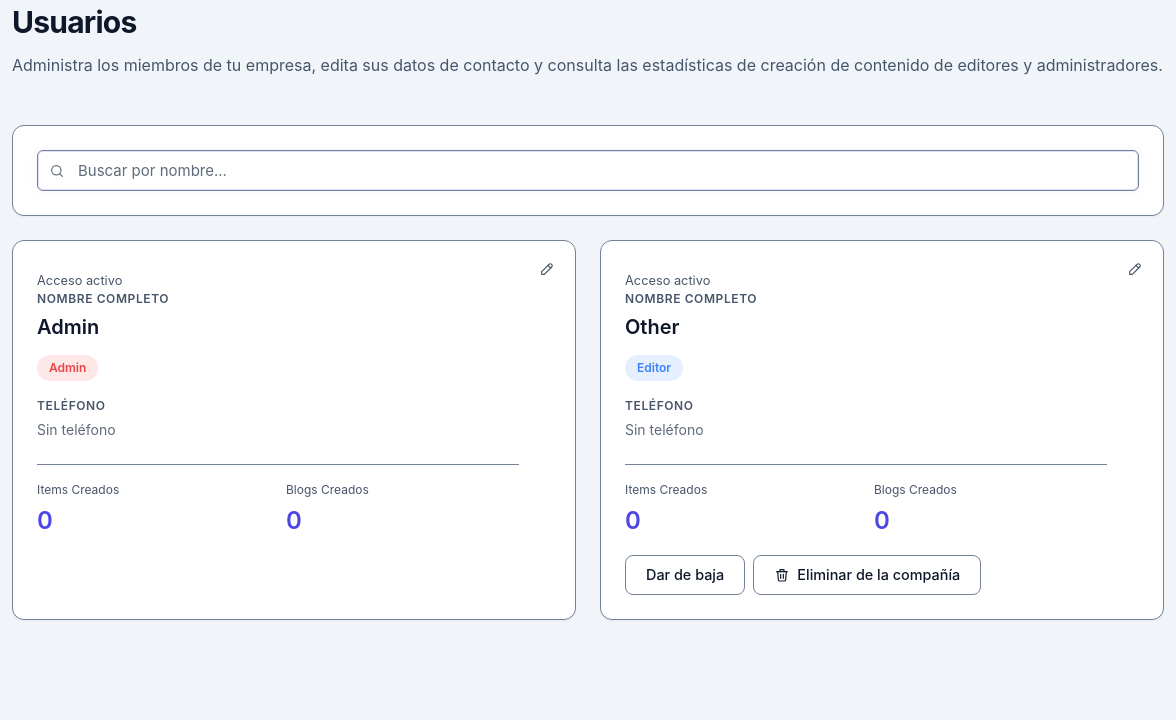
Test: lets a company admin suspend, reactivate and remove only other memberships
The width and height of the screenshot is (1176, 720).
Click the button "Dar de baja" at (685, 575), box [625,555,745,595]
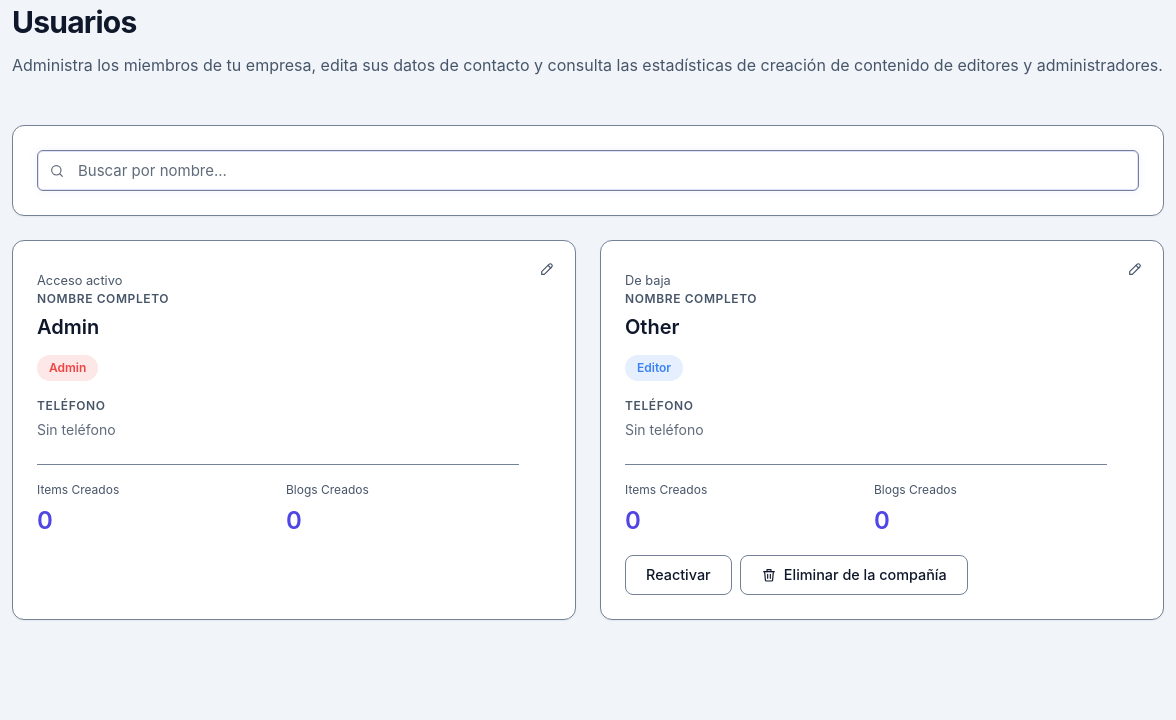
Click the button "Reactivar" at (678, 575), box [625,555,732,595]
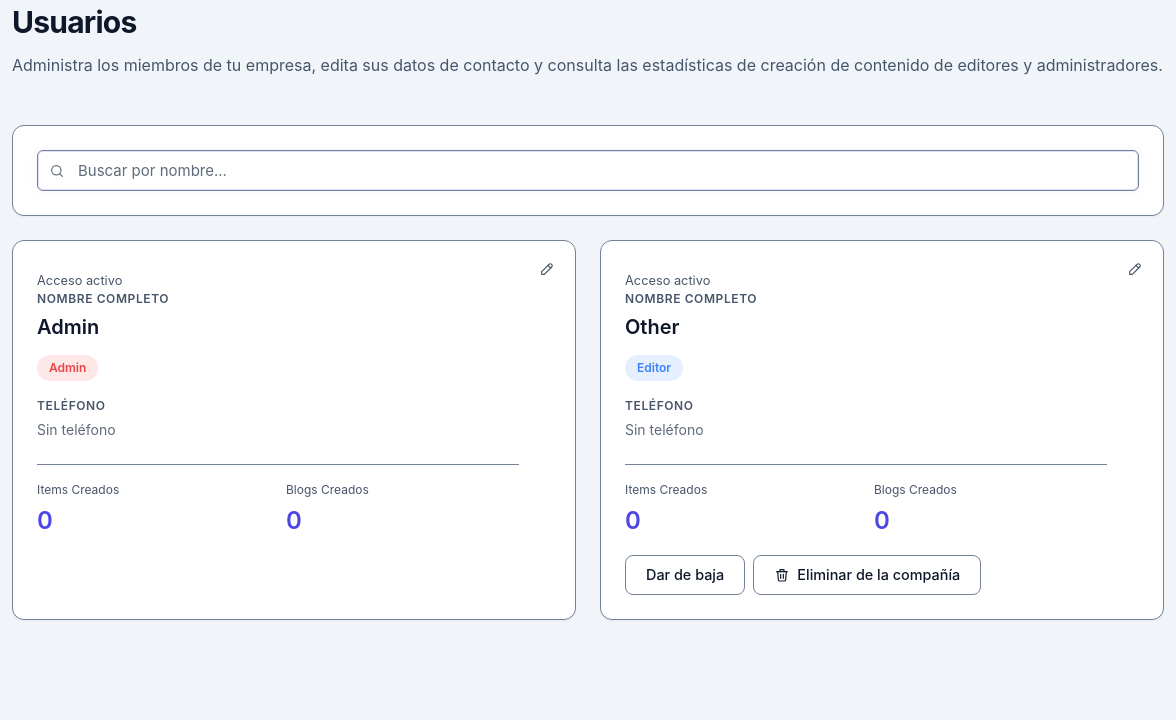
Click the button "Eliminar de la compañía" at (867, 575), box [753,555,981,595]
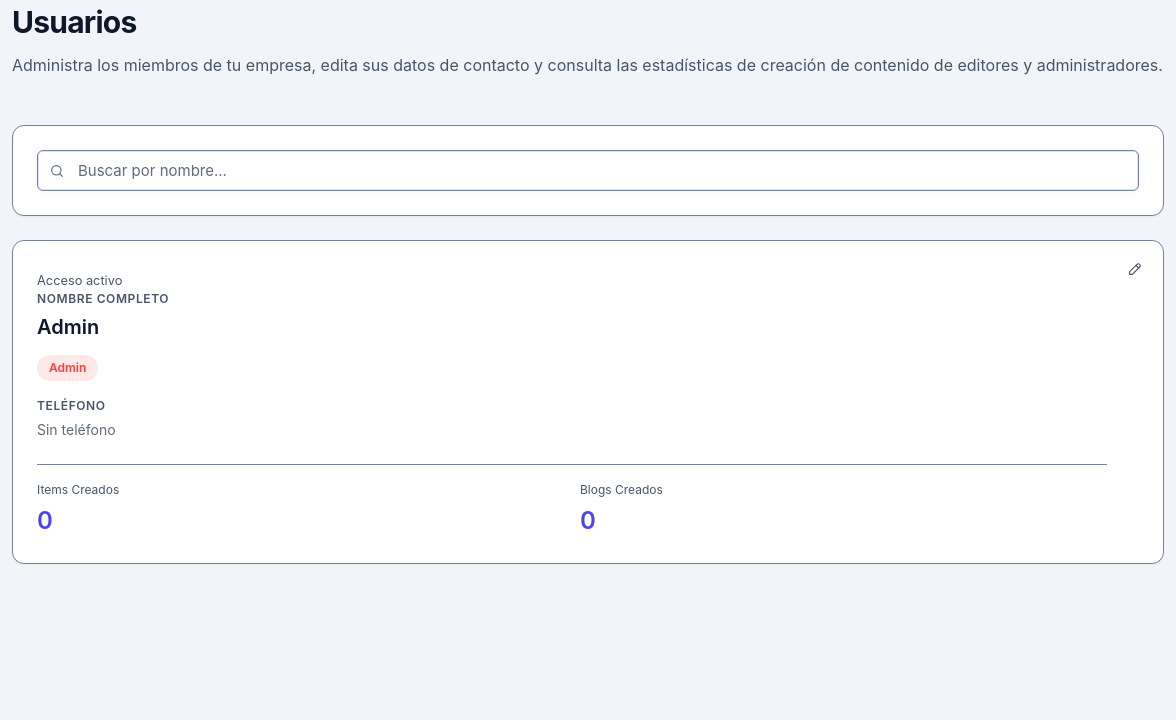
Expected: the text "Other" is gone
